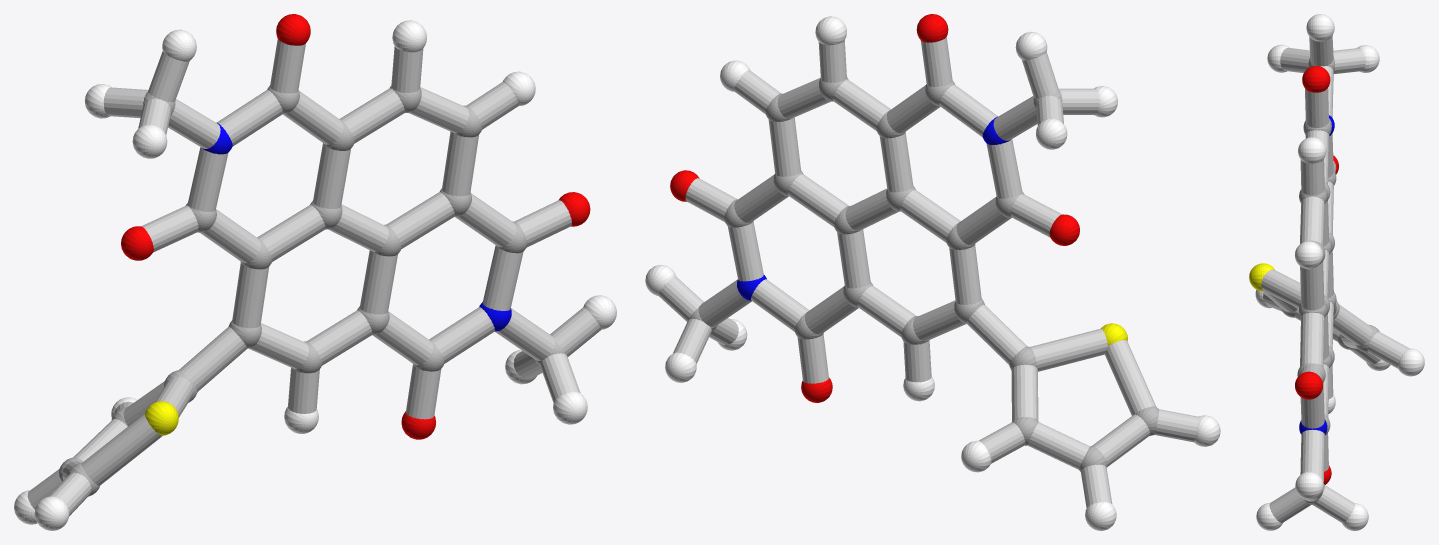
Rendered from Dimethyl_Naphthalene_Dicarboximide_Phi_0_Theta_120_Thiophene.glb.
3 renders of one model, left to right at view 1: azimuth 30°, elevation 25°; view 2: azimuth 150°, elevation 25°; view 3: azimuth 270°, elevation 25°, orthographic. The views are drawn at different scales.
Parts seen in each view (by area): view 1: grp14119, grp7241, grp1, grp12309, grp13757, grp11585; view 2: grp14119, grp7241, grp1, grp12309, grp11585; view 3: grp14119, grp7241, grp1, grp12309, grp13757, grp11585.
Part boxes in pixels (left/top/right/bottom): grp14119: left=27, top=38, right=601, bottom=516; grp7241: left=14, top=20, right=616, bottom=530; grp1: left=59, top=86, right=565, bottom=496; grp12309: left=121, top=14, right=590, bottom=439; grp13757: left=145, top=401, right=178, bottom=435; grp11585: left=202, top=122, right=511, bottom=331; grp14119: left=658, top=37, right=1198, bottom=507; grp7241: left=645, top=16, right=1220, bottom=530; grp1: left=688, top=77, right=1159, bottom=471; grp12309: left=670, top=14, right=1079, bottom=402; grp11585: left=737, top=116, right=1010, bottom=300; grp14119: left=1261, top=35, right=1409, bottom=522; grp7241: left=1255, top=14, right=1424, bottom=530; grp1: left=1281, top=57, right=1379, bottom=504; grp12309: left=1295, top=66, right=1338, bottom=484; grp13757: left=1249, top=263, right=1274, bottom=291; grp11585: left=1299, top=115, right=1334, bottom=434.
Bounding box in the file's own units: 12 × 9.35 × 3.73.
